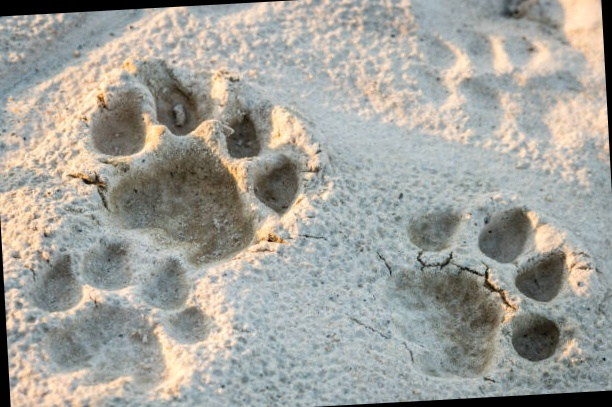coyote: (54, 61, 323, 288), (374, 192, 603, 388)
